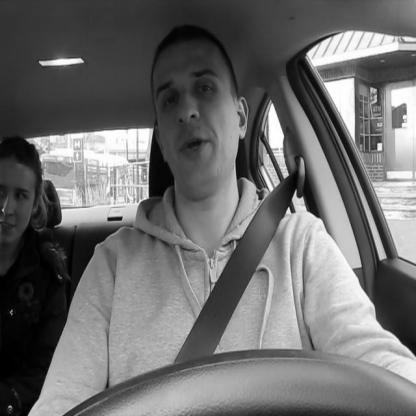seatbelt: (122, 23, 312, 384)
